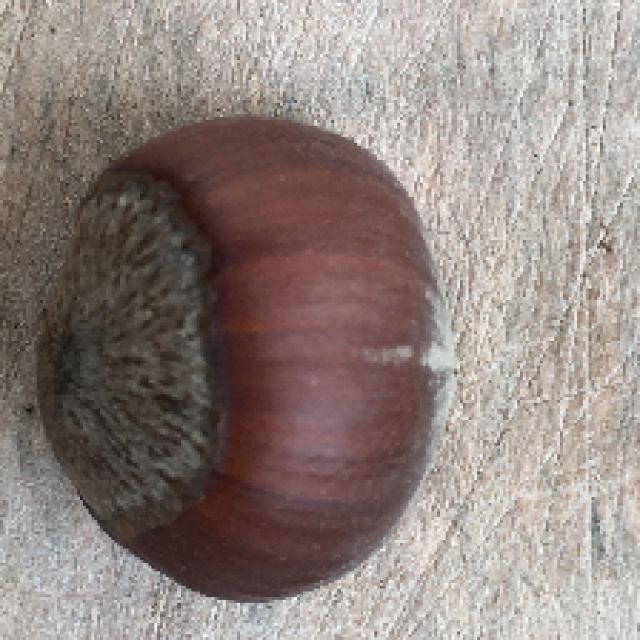qualityHazelnut: (22, 108, 444, 601)
